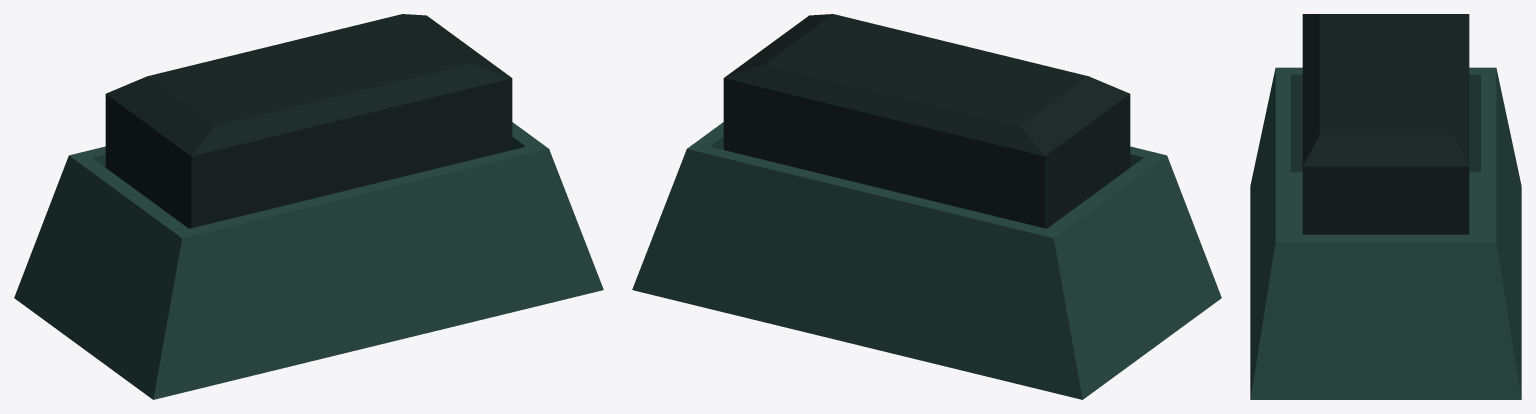
The model's file is m_button.glb.
3 views of the same model, side by side, from view 1: azimuth 30°, elevation 25°; view 2: azimuth 150°, elevation 25°; view 3: azimuth 270°, elevation 25° (orthographic). The views are drawn at different scales.
Parts seen in each view (by area): view 1: M_ButtonBase, M_Button; view 2: M_ButtonBase, M_Button; view 3: M_ButtonBase, M_Button.
Boxes of the visible parts, x1=… form: M_ButtonBase: x1=14, y1=122, x2=603, y2=399; M_Button: x1=105, y1=14, x2=512, y2=228; M_ButtonBase: x1=632, y1=122, x2=1221, y2=399; M_Button: x1=723, y1=14, x2=1130, y2=228; M_ButtonBase: x1=1250, y1=67, x2=1521, y2=399; M_Button: x1=1302, y1=14, x2=1469, y2=234.
Bounding box in the file's own units: 0.2872 × 0.1365 × 0.1537.
1 material, 1 textured.
